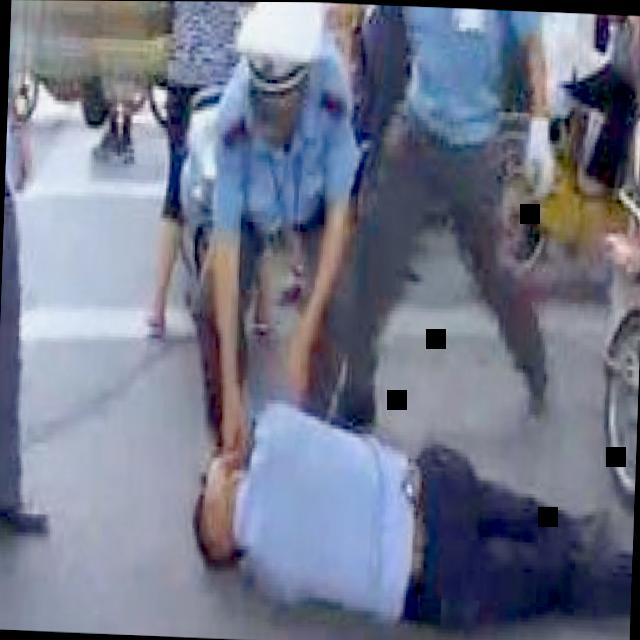Fall-Detected: (177, 358, 638, 632)
